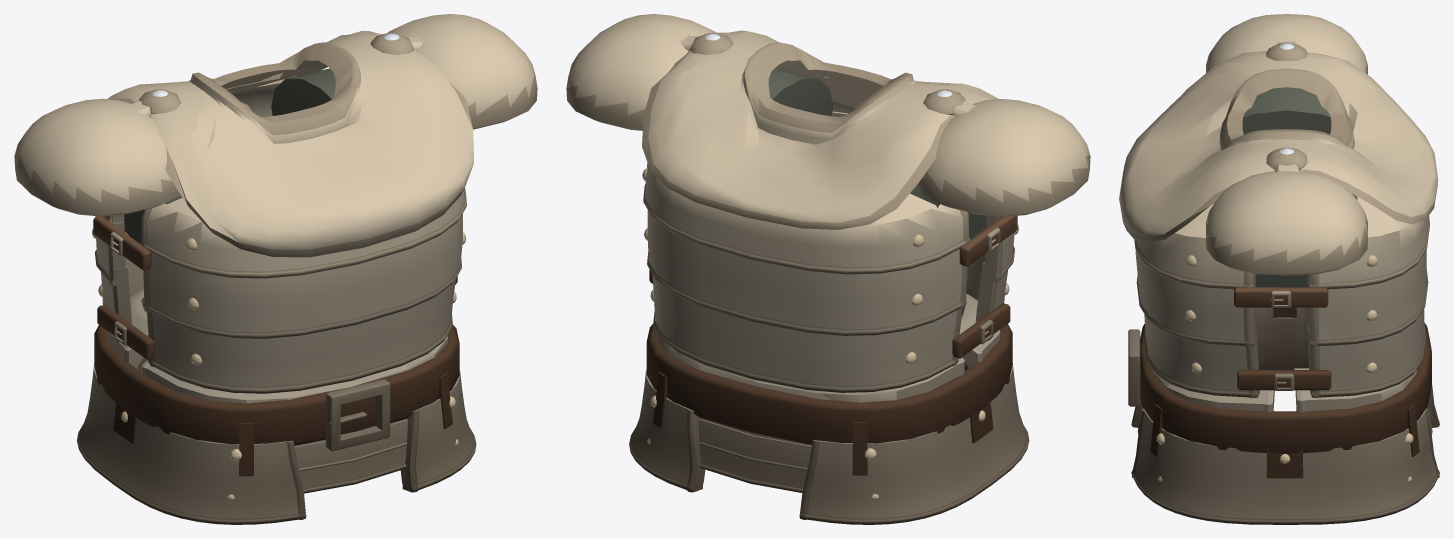
File: steel_plate.glb
The picture shows the model from 3 angles, left to right: view 1: azimuth 30°, elevation 25°; view 2: azimuth 150°, elevation 25°; view 3: azimuth 270°, elevation 25°; orthographic projection. The views are drawn at different scales.
Parts seen in each view (by area): view 1: Item; view 2: Item; view 3: Item.
Boxes of the visible parts, <box> form: Item: <box>14,14,537,524</box>; Item: <box>566,14,1090,524</box>; Item: <box>1119,14,1439,524</box>.
Bounding box in the file's own units: 1.23 × 0.9144 × 0.7502.
Materials: 4 (4 with a texture image).
